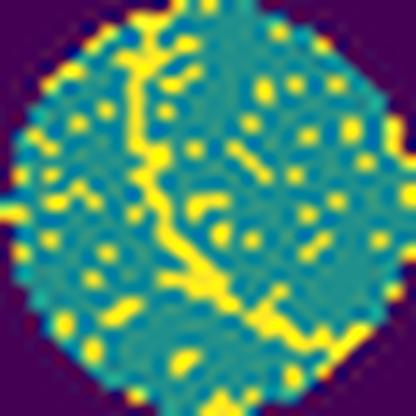Scratch: (111, 9, 349, 364)
